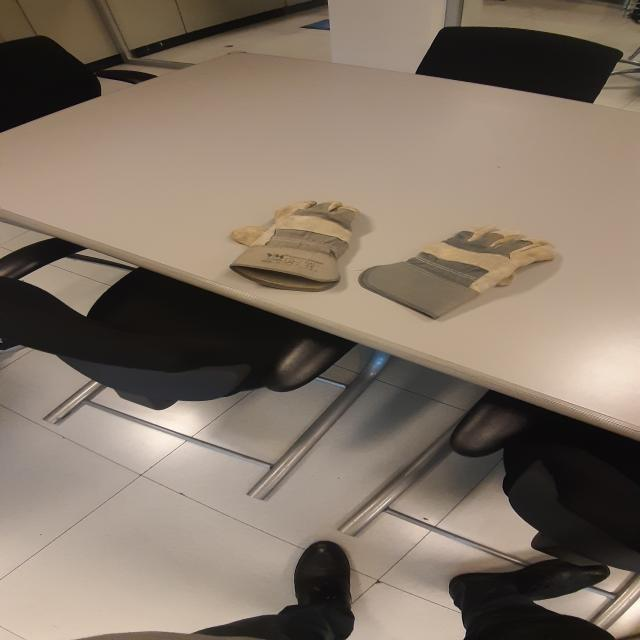gloved_hand: (361, 226, 553, 318), (232, 201, 359, 289)
